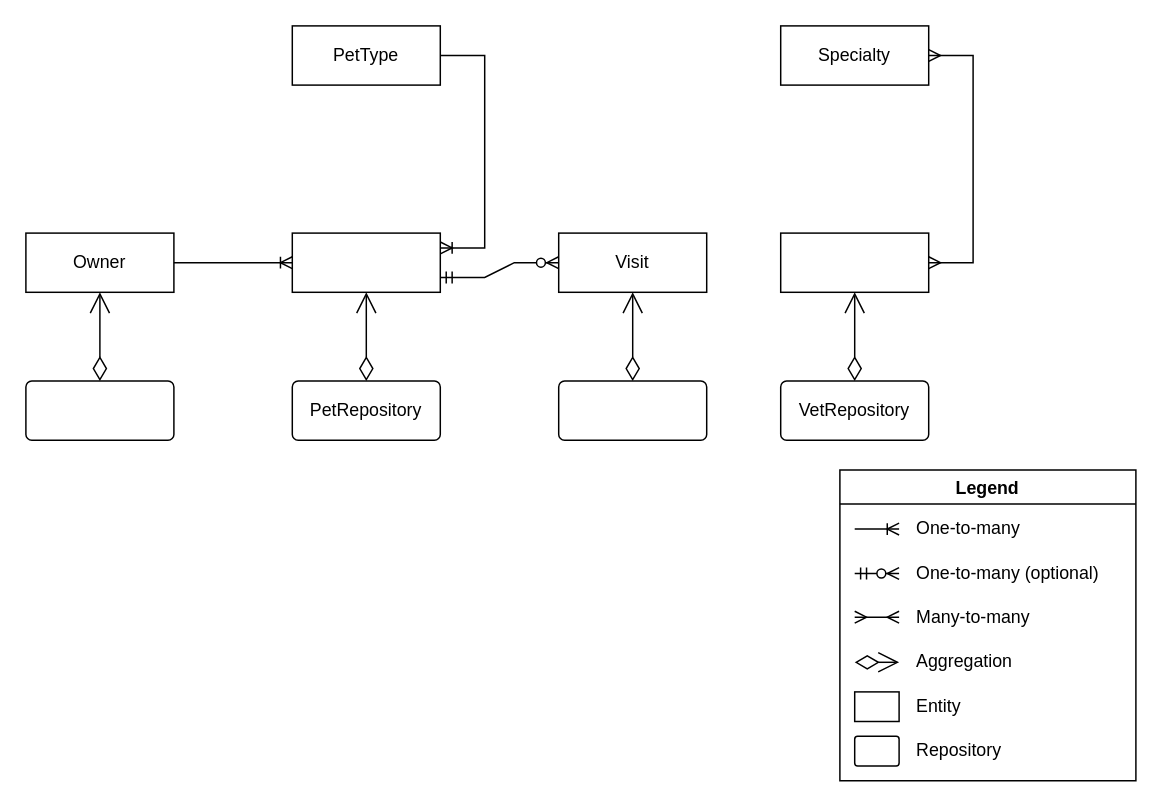
Image size: 1162x807. Some labels were removed from this diagram. Here are the shapes that lost their labels. From the top down, the box of each, then its label:
(291, 232, 440, 292): Pet
(779, 232, 929, 292): Vet
(24, 380, 174, 440): OwnerRepository
(557, 380, 707, 440): VisitRepository
